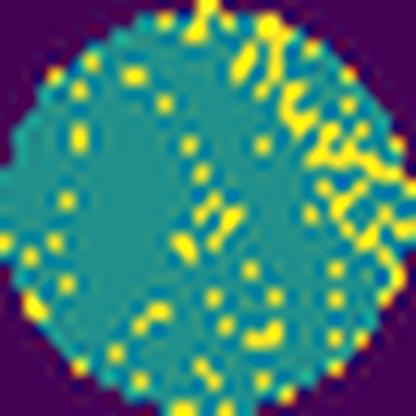Scratch: (308, 174, 416, 310), (303, 122, 416, 186)
